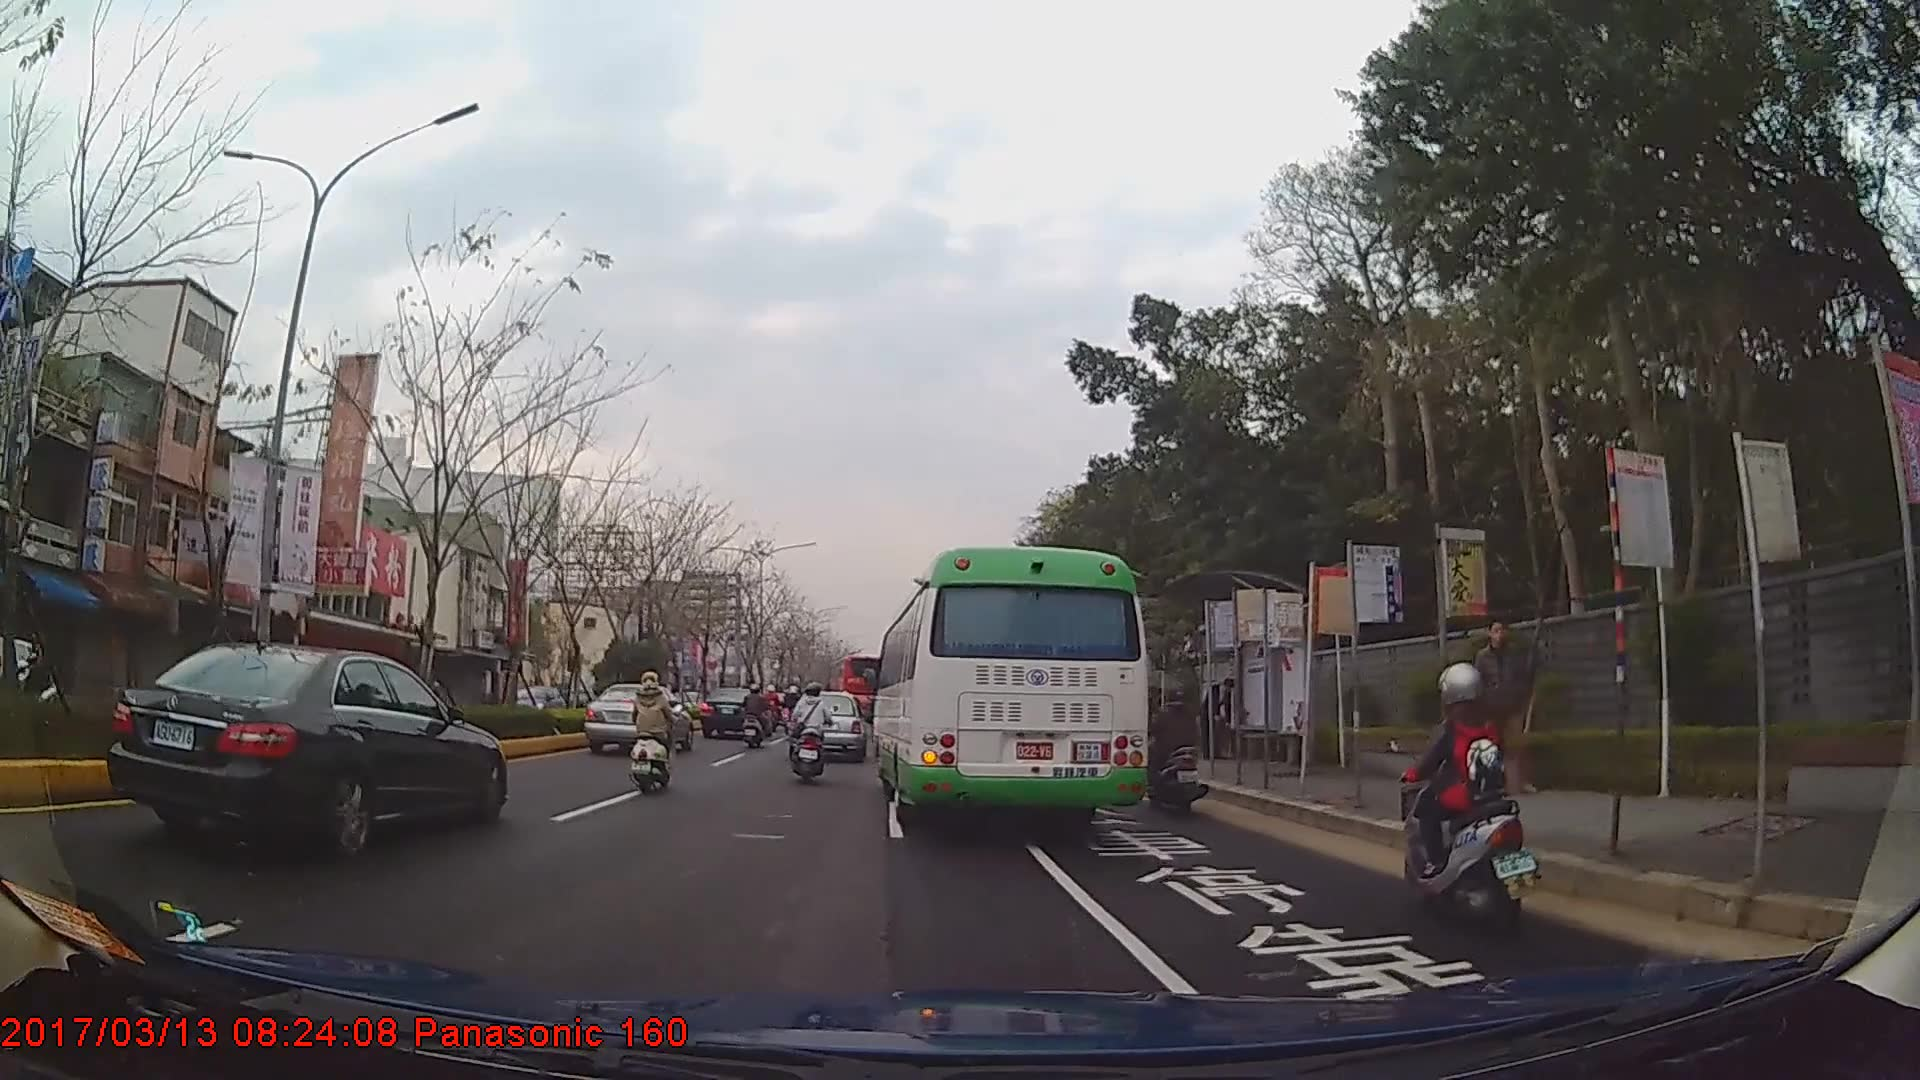pedestrian: (1471, 614, 1537, 797), (1199, 678, 1238, 763)
rider: (1392, 659, 1538, 931), (1147, 680, 1211, 811), (628, 672, 676, 793), (791, 684, 836, 779), (20, 633, 58, 700), (742, 683, 772, 746), (785, 684, 806, 723)
vehicle: (105, 638, 506, 862), (870, 545, 1149, 830), (585, 682, 693, 752), (787, 688, 865, 765), (700, 683, 768, 738), (501, 681, 568, 725)
